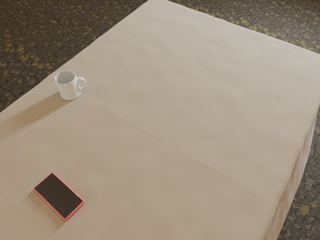cup: (55, 70, 86, 100)
phone: (34, 173, 84, 221)
